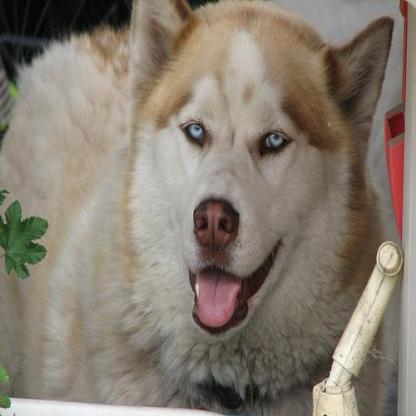Siberian_husky: (1, 0, 392, 414)
